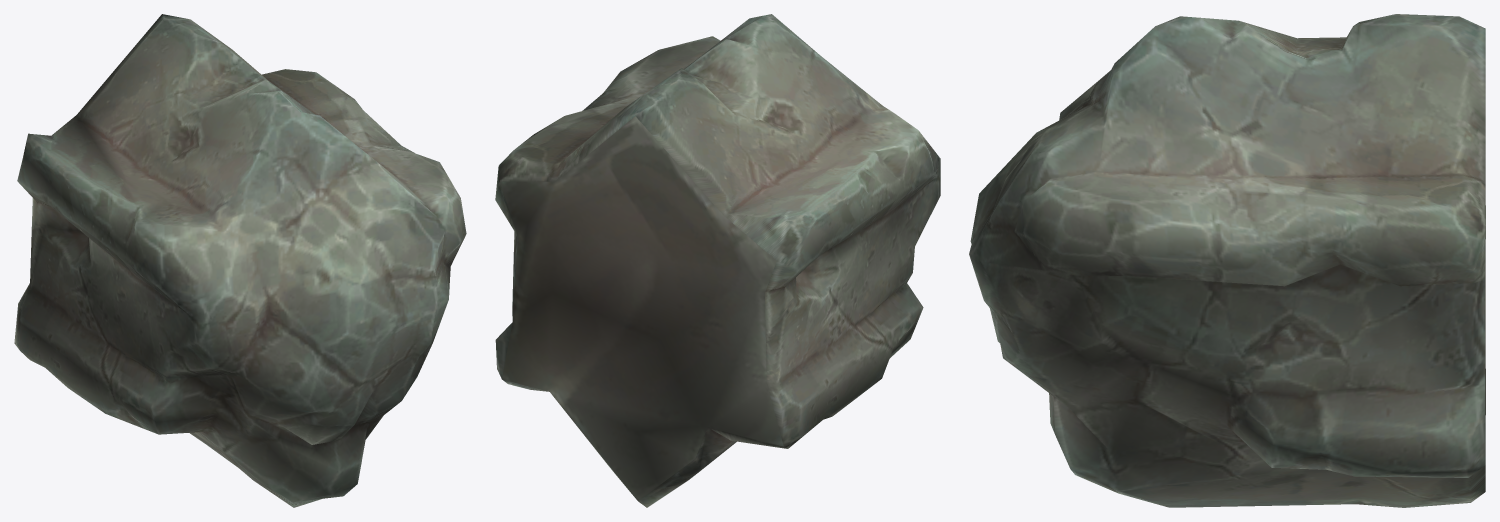
Rendered from Ruins_Pillar_Dmg_C.fbx.
3 renders of one model, left to right at view 1: azimuth 30°, elevation 25°; view 2: azimuth 150°, elevation 25°; view 3: azimuth 270°, elevation 25°, orthographic. The views are drawn at different scales.
Visible parts, largest first — view 1: Ruins_Pillar_Dmg_C; view 2: Ruins_Pillar_Dmg_C; view 3: Ruins_Pillar_Dmg_C.
Boxes of the visible parts, x1,y1,x2,y2 form: Ruins_Pillar_Dmg_C: (14,14,466,507); Ruins_Pillar_Dmg_C: (495,14,940,507); Ruins_Pillar_Dmg_C: (969,14,1485,507).
Size of the model in its own units: 299 by 382 by 366.
